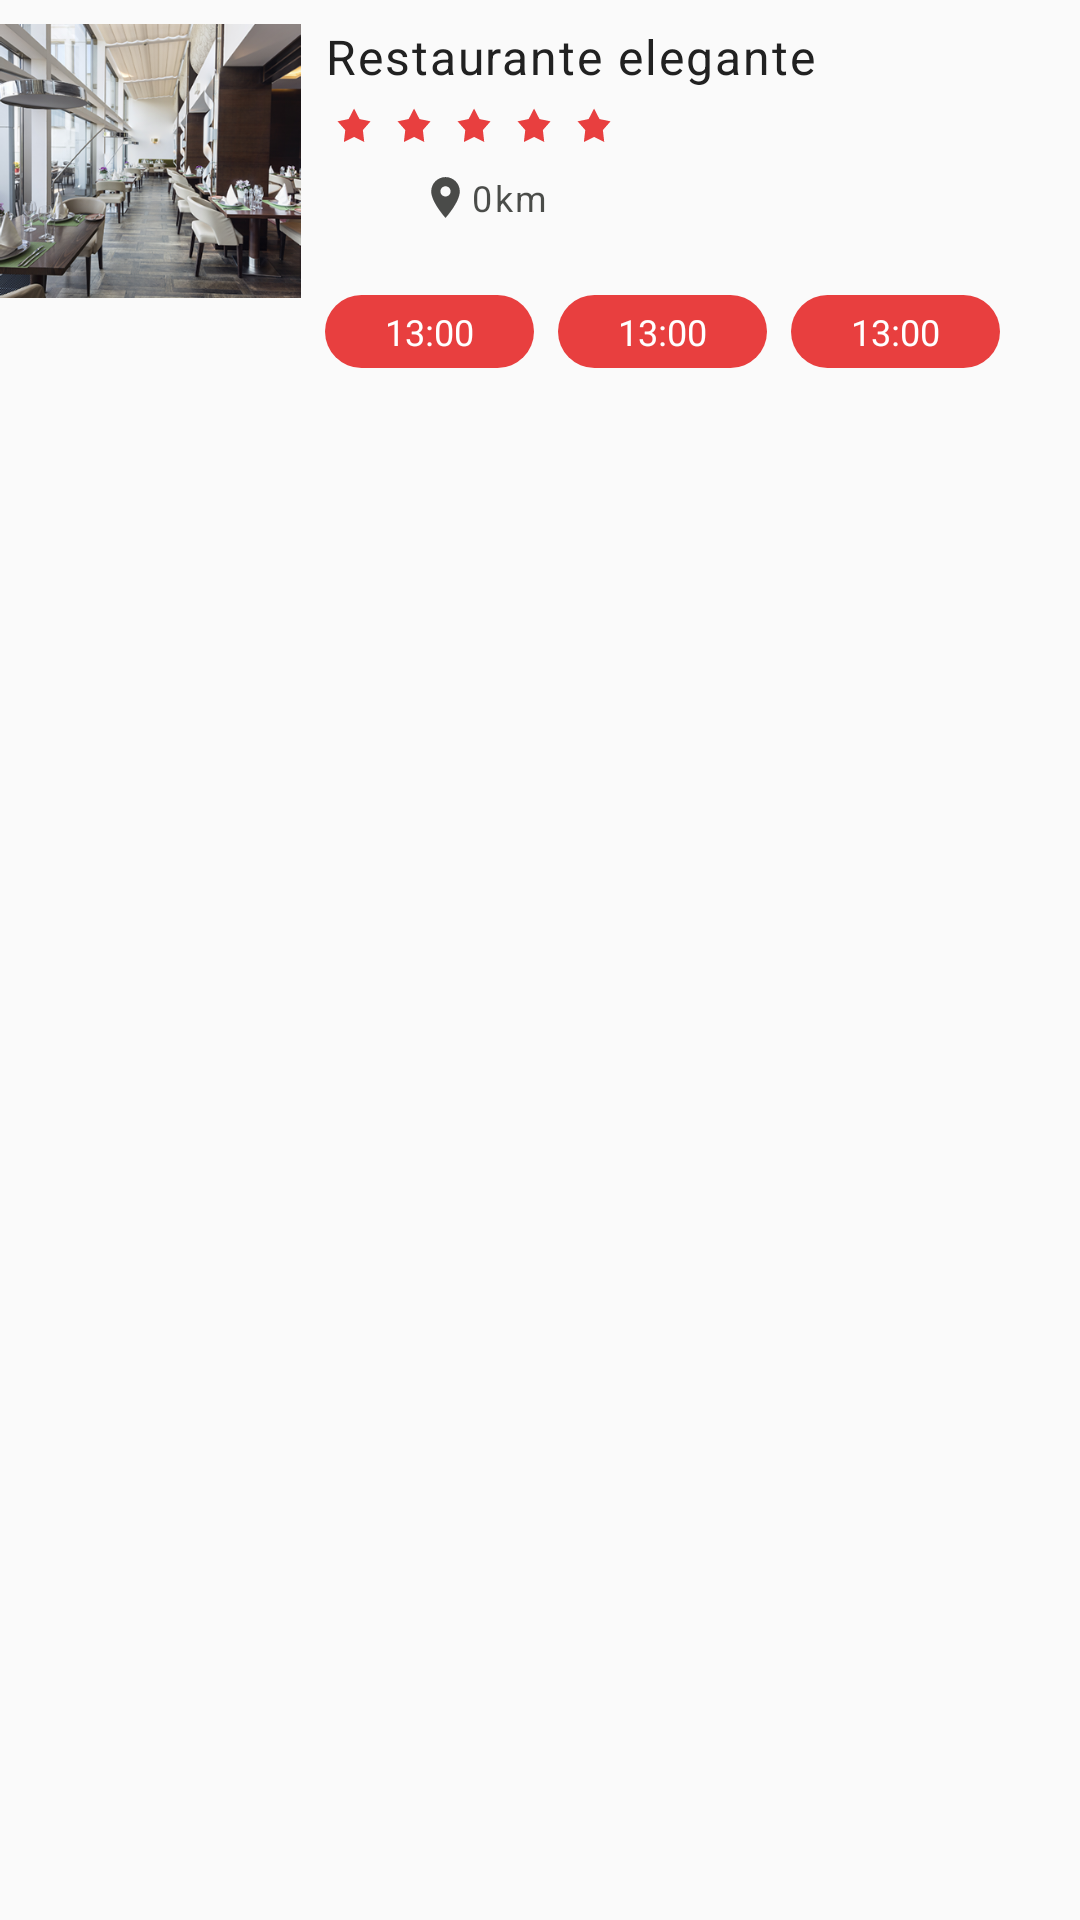

Icons on this 1080px×1920px Android screen, each with its box as (x1, y1, x2, y2):
place: (431, 177, 460, 218)
star ranking: (337, 109, 371, 142), (397, 109, 431, 142), (457, 109, 491, 142), (517, 109, 551, 142), (577, 109, 611, 142)
